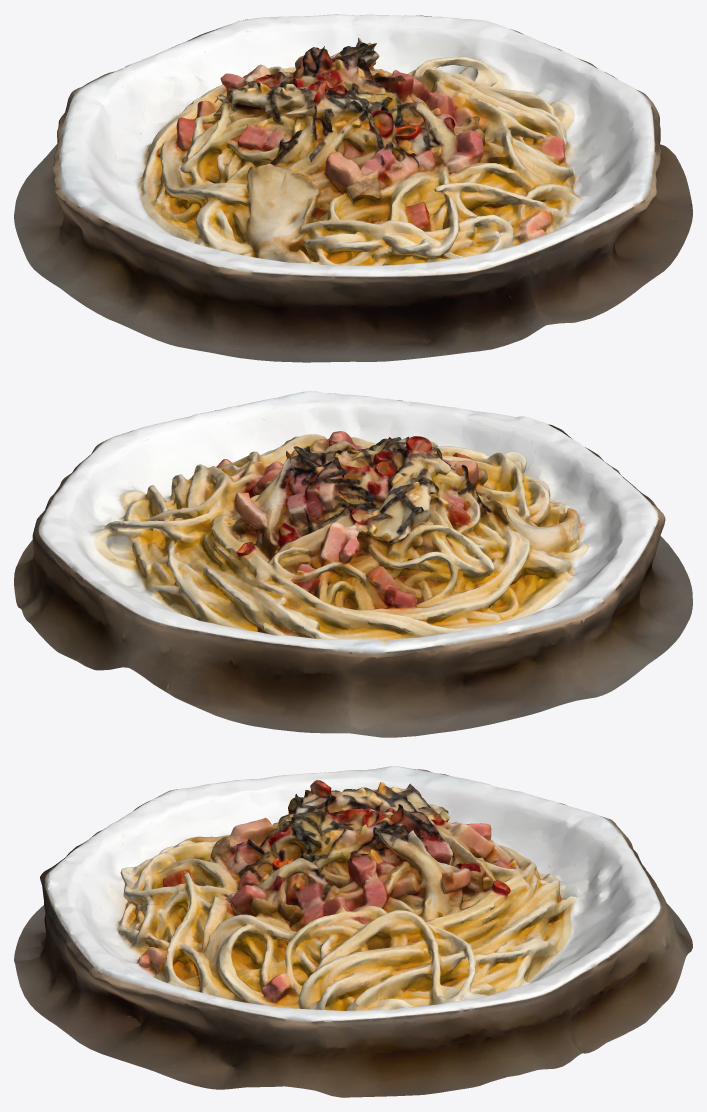
Rendered from pasta.glb.
3 views of the same model, one above another, from view 1: azimuth 30°, elevation 25°; view 2: azimuth 150°, elevation 25°; view 3: azimuth 270°, elevation 25° (orthographic).
Bounding box in the file's own units: 1.04 × 0.2778 × 1.04.
Materials: 1 (1 with a texture image).
